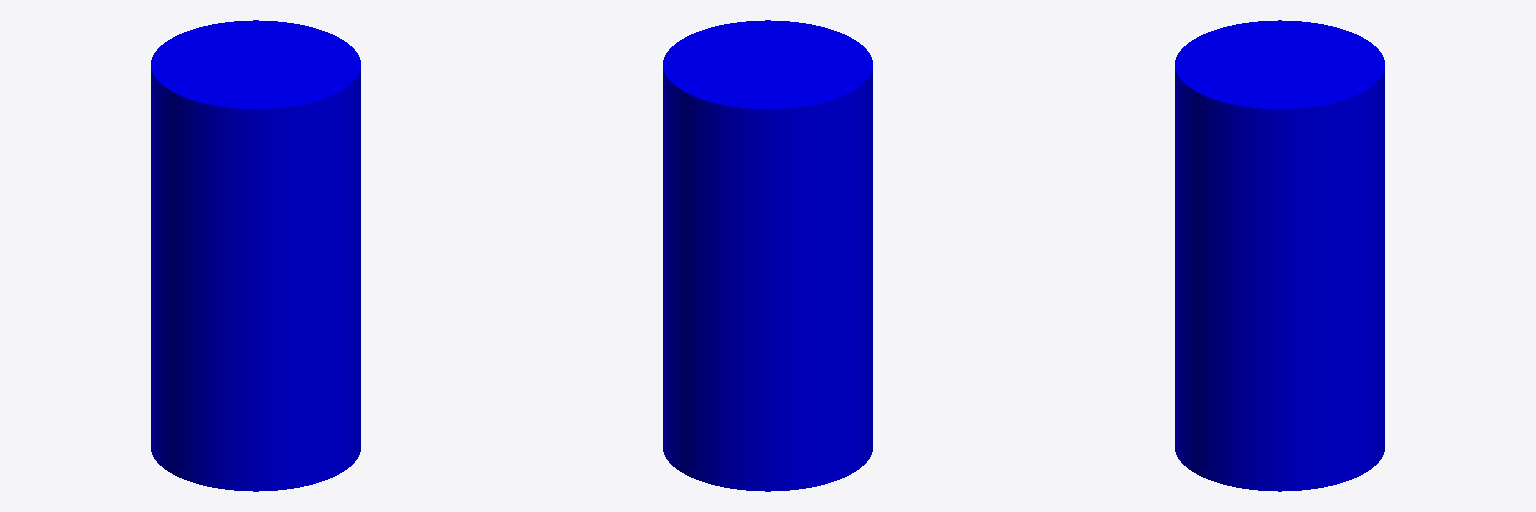
robot.urdf — board1_block3:
<?xml version="1.0"?>
<robot name="board1_block3">
    <link name="board1_block3">
        <visual>
            <origin xyz="0 0 0 " rpy=" 0 0 0"/>
            <geometry>
                <mesh filename="../meshes/SIMO_Board1_Block3.stl" scale="0.001 0.001 0.001"/>
            </geometry>
            <material name="red">
                <color rgba="0.0 0.0 1.0 1.0"/>
            </material>
        </visual>
        <collision>
            <origin xyz="0 0 0" rpy="0 0 0"/>
            <geometry>
                <mesh filename="../meshes/SIMO_Board1_Block3.stl" scale="0.001 0.001 0.001"/>
            </geometry>
        </collision>
    </link>
</robot>

--- Render facts (derived) ---
The picture shows the robot from 3 angles, left to right: view 1: azimuth 30°, elevation 25°; view 2: azimuth 150°, elevation 25°; view 3: azimuth 270°, elevation 25°; orthographic projection.
Model board1_block3 with 1 links and 0 joints (none), rooted at board1_block3, posed all joints at 0.
Visible links, largest first — view 1: board1_block3; view 2: board1_block3; view 3: board1_block3.
Boxes of the visible links, bbox=[...] form: board1_block3: bbox=[151, 20, 360, 491]; board1_block3: bbox=[663, 20, 872, 491]; board1_block3: bbox=[1175, 20, 1384, 491].
Size in the robot's own frame: 0.0498 by 0.0498 by 0.1 metres.
1 mesh visuals loaded from 1 distinct referenced files (1 ASCII STL).
